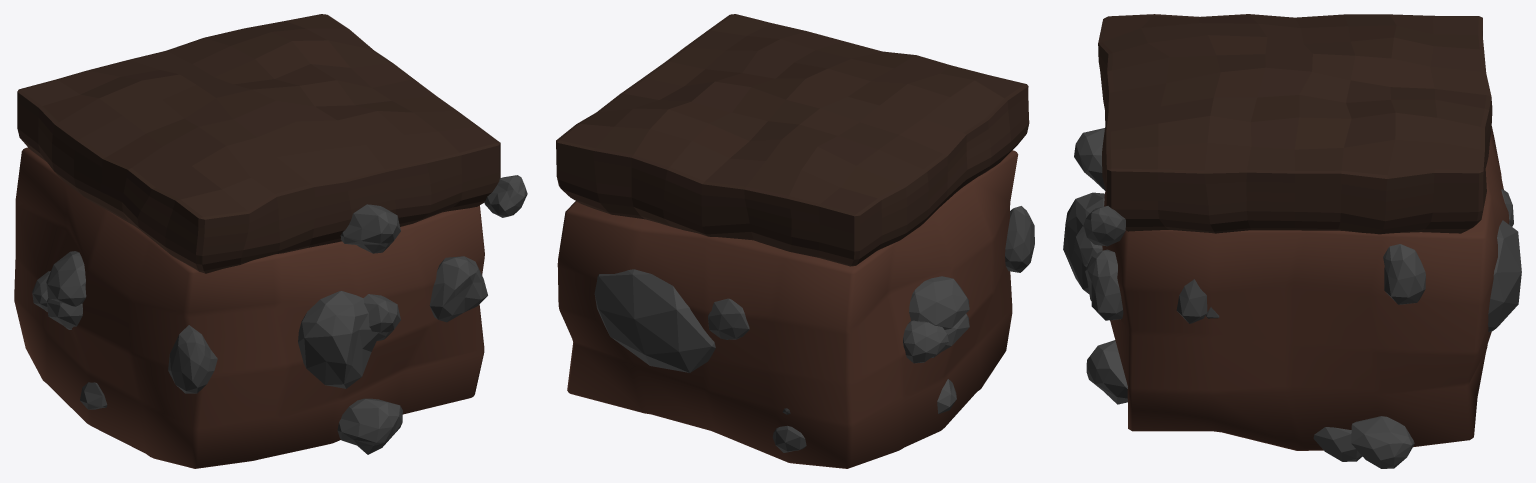
The model's file is LODTest.fbx.
The picture shows the model from 3 angles, left to right: view 1: azimuth 30°, elevation 25°; view 2: azimuth 150°, elevation 25°; view 3: azimuth 270°, elevation 25°; orthographic projection. The views are drawn at different scales.
Visible parts, largest first — view 1: SmallGroundBlock_LOD0; view 2: SmallGroundBlock_LOD0; view 3: SmallGroundBlock_LOD0.
Part boxes in pixels (x1=…): SmallGroundBlock_LOD0: x1=14, y1=14, x2=527, y2=468; SmallGroundBlock_LOD0: x1=556, y1=14, x2=1034, y2=468; SmallGroundBlock_LOD0: x1=1063, y1=14, x2=1521, y2=468.
Size of what is drawn, in the model's own units: 3.13 by 3.28 by 2.65.
